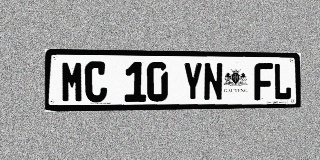0: (147, 62, 168, 102)
1: (125, 62, 146, 102)
C: (85, 61, 107, 102)
F: (254, 63, 273, 100)
L: (273, 63, 292, 100)
M: (61, 61, 84, 103)
N: (203, 62, 223, 101)
Y: (183, 62, 203, 101)
